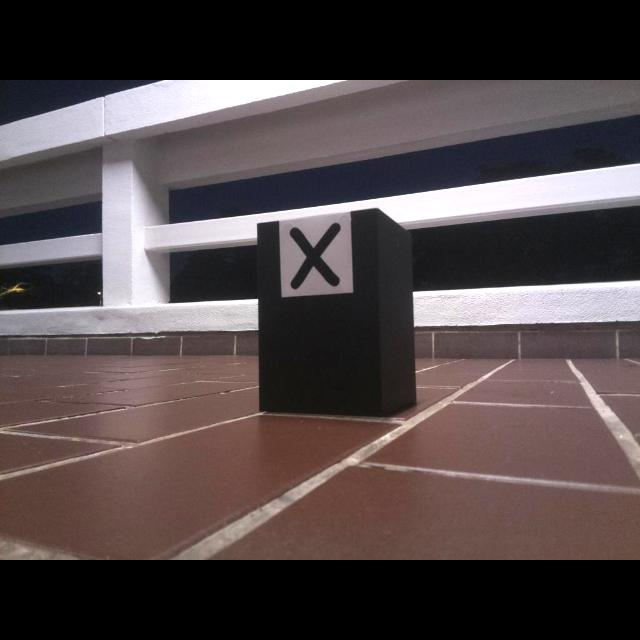X: (290, 223, 341, 289)
